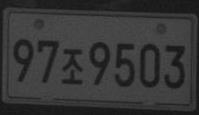0: (138, 42, 161, 87)
3: (163, 45, 186, 90)
5: (113, 43, 136, 87)
7: (37, 39, 59, 83)
9: (11, 37, 34, 82), (88, 40, 111, 85)
조: (61, 48, 83, 85)
